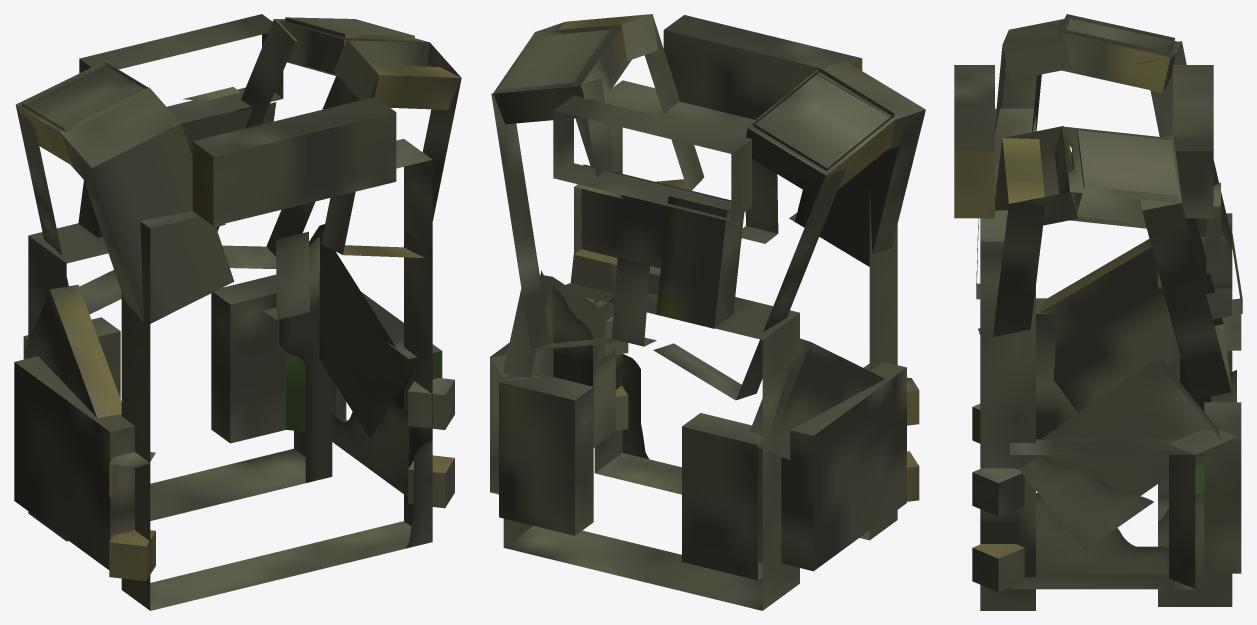
File: defender.obj
The picture shows the model from 3 angles, left to right: view 1: azimuth 30°, elevation 25°; view 2: azimuth 150°, elevation 25°; view 3: azimuth 270°, elevation 25°; orthographic projection. The views are drawn at different scales.
Visible parts, largest first — view 1: defender; view 2: defender; view 3: defender.
Boxes of the visible parts, bbox=[...] form: defender: bbox=[14, 14, 461, 610]; defender: bbox=[490, 14, 925, 610]; defender: bbox=[954, 14, 1242, 610].
Size of the model in its own units: 0.6959 by 0.8702 by 0.4862.
